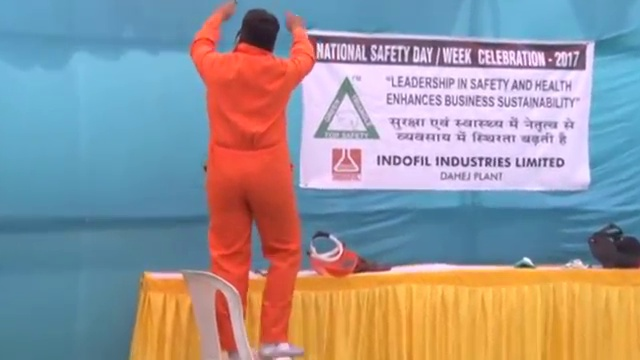helmet_off: (235, 8, 279, 56)
person: (191, 2, 316, 360)
